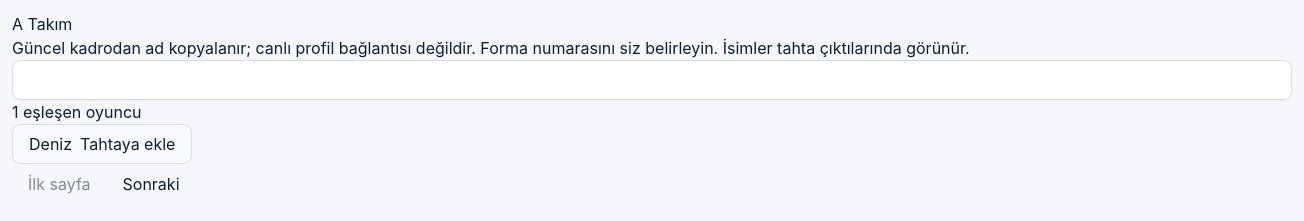
Test: board roster picker › debounces search and resets the page cursor
Click the button "Sonraki": (151, 184) [106, 164, 196, 204]
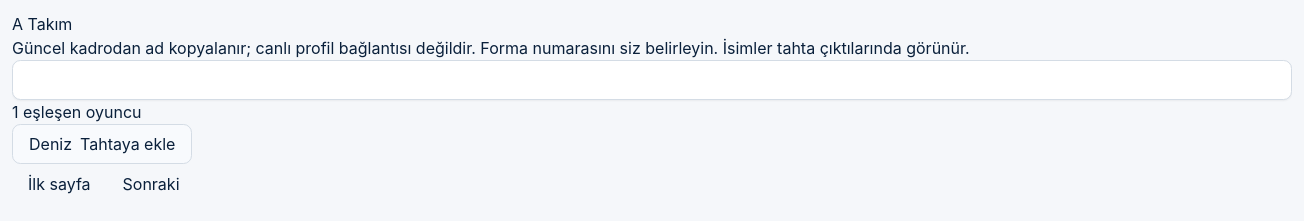
In the field named "Kadroda oyuncu ara": (652, 80) [12, 60, 1292, 100], type "Ada"
Wait 250 ms
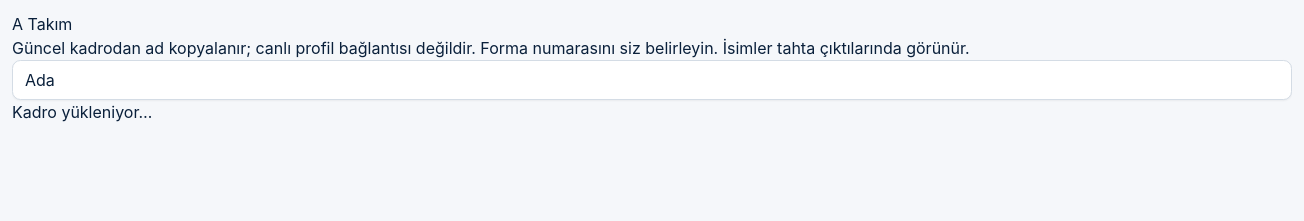
Check: the button "Deniz" is gone
